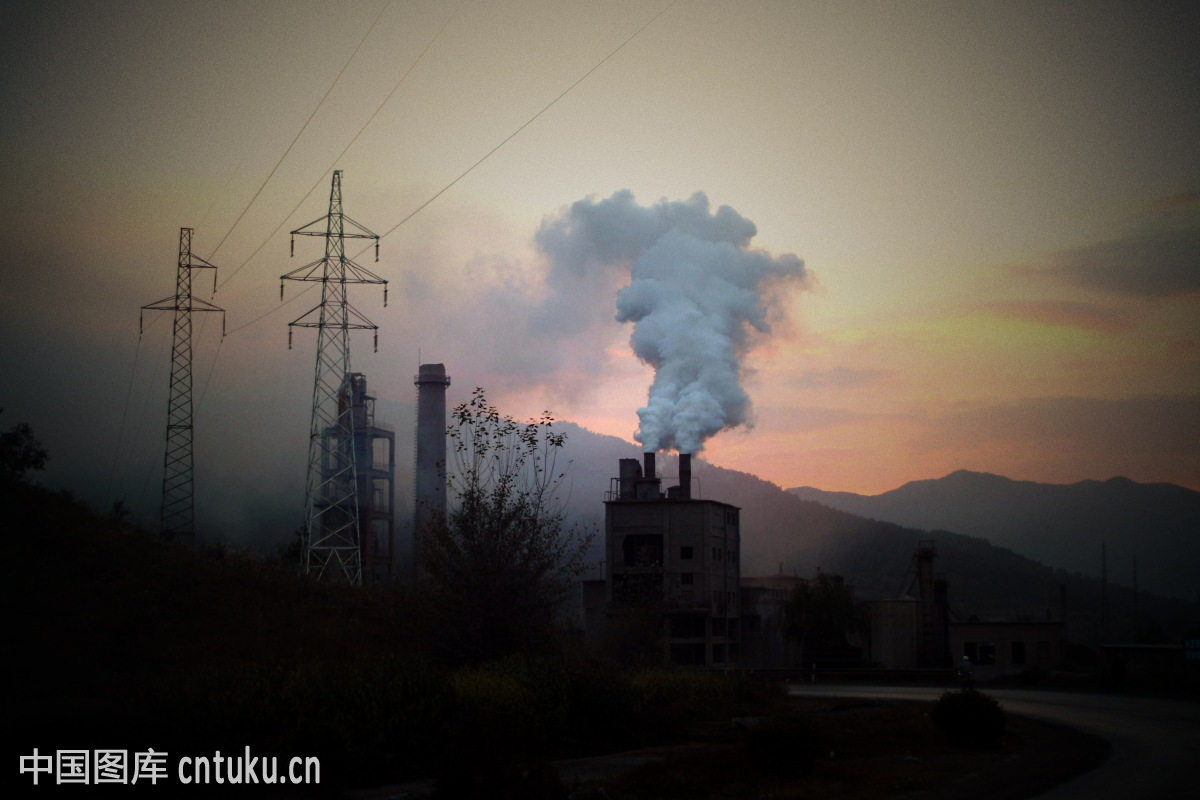dust: (542, 232, 827, 476)
